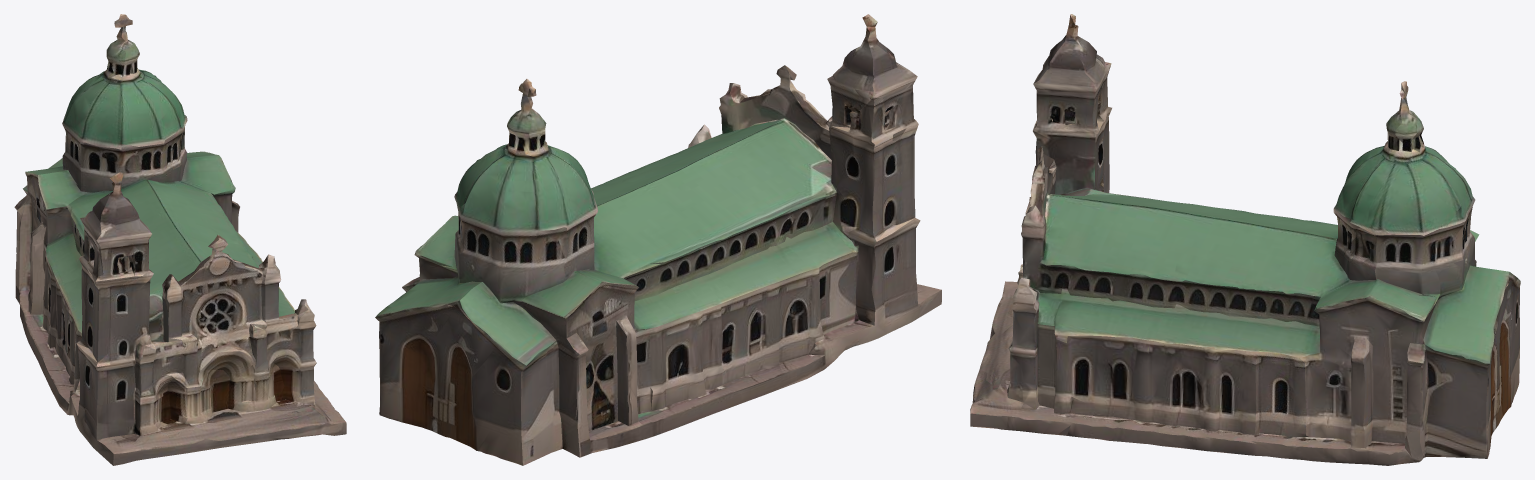
File: manila-cathedral.glb
3 renders of one model, left to right at view 1: azimuth 30°, elevation 25°; view 2: azimuth 150°, elevation 25°; view 3: azimuth 270°, elevation 25°, orthographic. The views are drawn at different scales.
Parts seen in each view (by area): view 1: logan-textured.obj; view 2: logan-textured.obj; view 3: logan-textured.obj.
Boxes of the visible parts, x1,y1,x2,y2 form: logan-textured.obj: (14, 14, 346, 465); logan-textured.obj: (375, 14, 941, 465); logan-textured.obj: (970, 14, 1520, 465).
Size of the model in its own units: 0.6872 by 0.659 by 1.
1 material, 1 textured.
